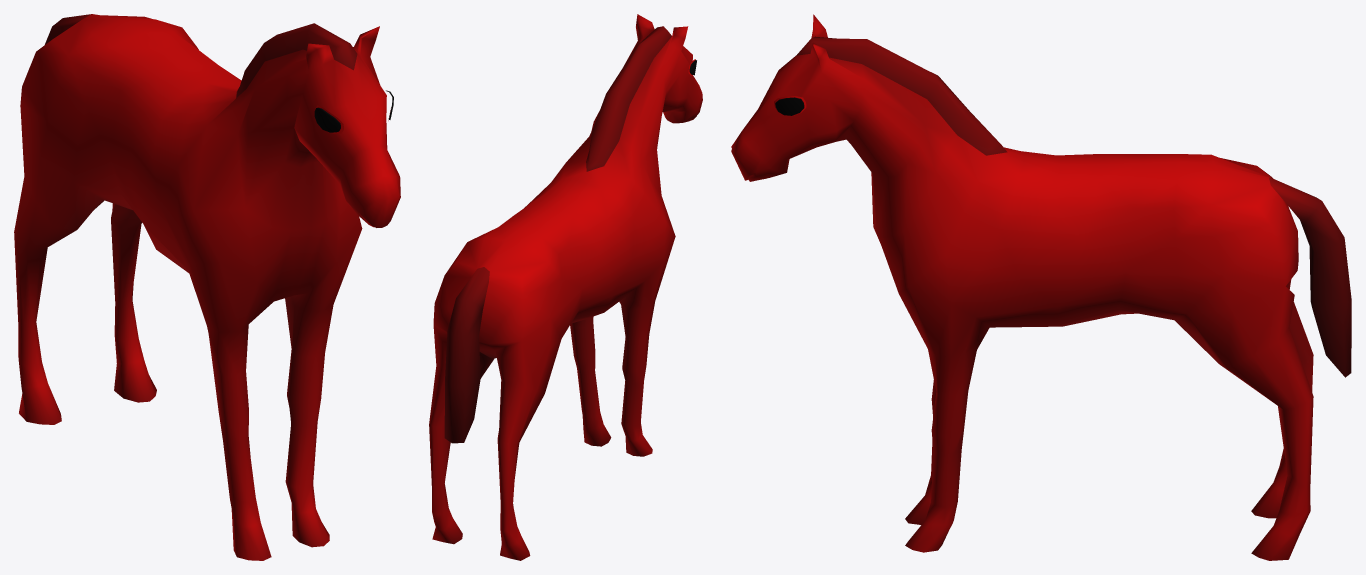
Rendered from ChestnutHorse.glb.
The picture shows the model from 3 angles, left to right: view 1: azimuth 30°, elevation 25°; view 2: azimuth 150°, elevation 25°; view 3: azimuth 270°, elevation 25°; orthographic projection. The views are drawn at different scales.
Parts seen in each view (by area): view 1: base_node_18; view 2: base_node_18; view 3: base_node_18.
Boxes of the visible parts, bbox=[...] form: base_node_18: bbox=[14, 14, 400, 560]; base_node_18: bbox=[429, 14, 702, 560]; base_node_18: bbox=[731, 14, 1351, 560].
Bounding box in the file's own units: 56.05 × 191 × 214.
